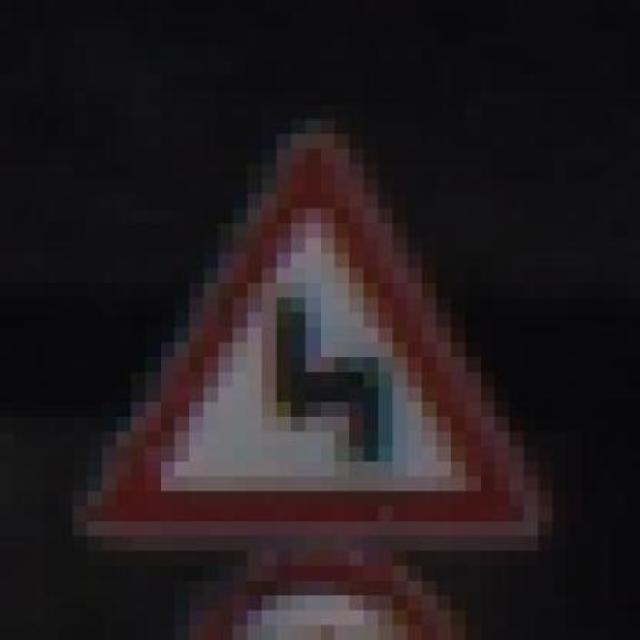Left Zig Zag Traffic: (73, 104, 553, 550)
